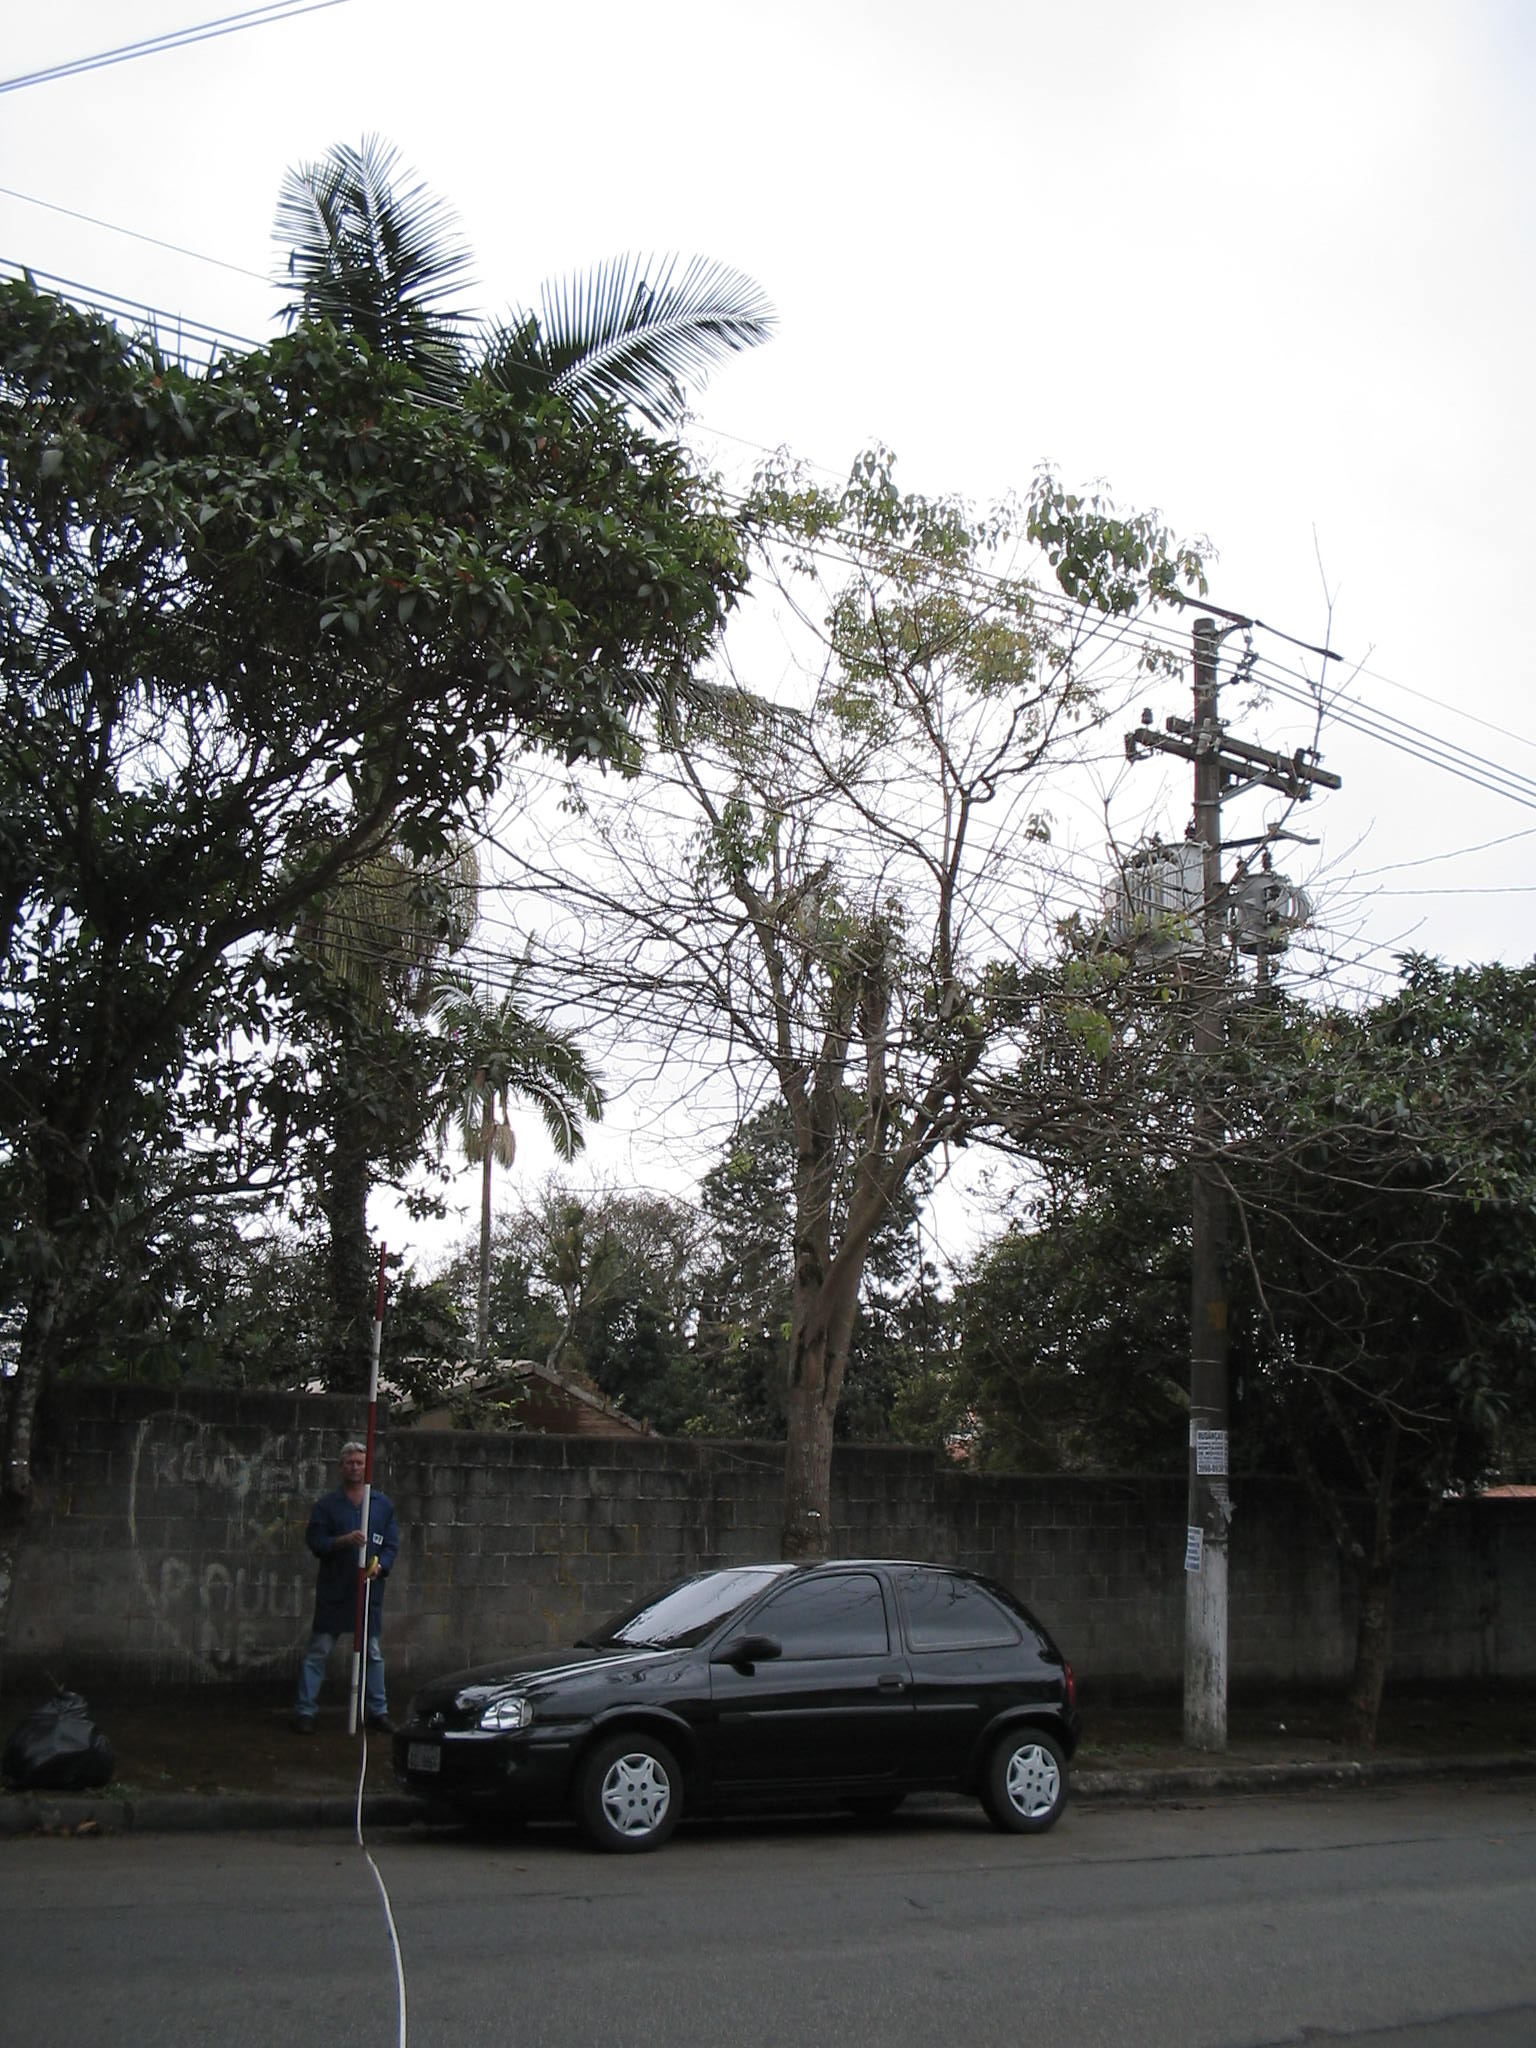crown: (11, 266, 745, 1058), (515, 471, 1242, 1079), (1212, 961, 1530, 1492)
stem: (757, 1413, 866, 1724), (1317, 1590, 1409, 1740)
stick: (349, 1237, 394, 1738)
tree: (8, 266, 749, 1711), (511, 468, 1249, 1725), (1205, 958, 1533, 1742)
